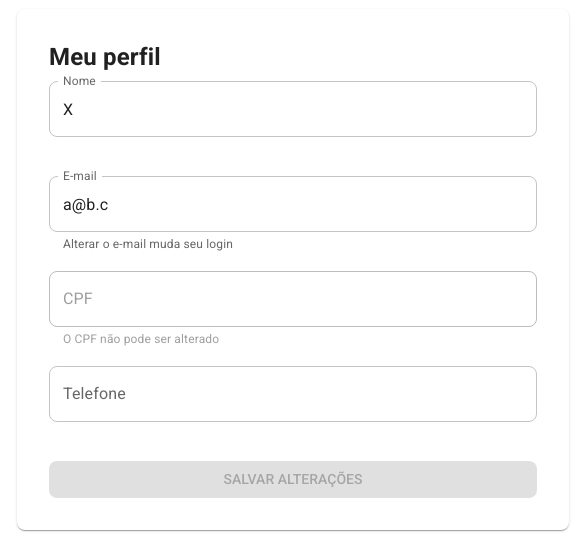
Test case: Profile › telefone bloqueia letras digitadas
Type "abc11987654321" into the field labelled "Telefone" at (293, 394), box [49,366,537,422]
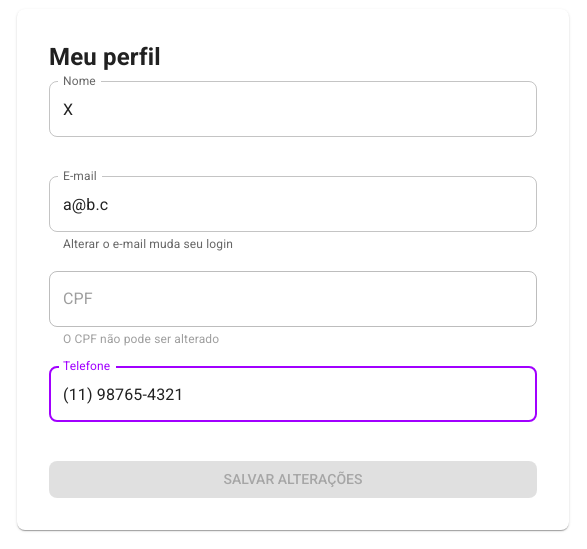
Now the field labelled "Telefone" holds "(11) 98765-4321", box [49,366,537,422]
